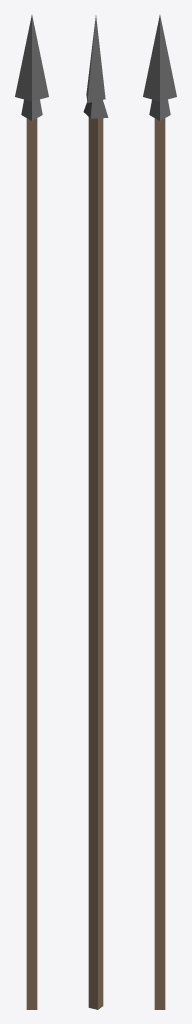
File: Spear_02.fbx
The picture shows the model from 3 angles, left to right: view 1: azimuth 90°, elevation 25°; view 2: azimuth 150°, elevation 25°; view 3: azimuth 270°, elevation 25°; orthographic projection.
Visible parts, largest first — view 1: pCylinder298; view 2: pCylinder298; view 3: pCylinder298.
Boxes of the visible parts, left/top/right/bottom form: pCylinder298: left=15, top=15, right=48, bottom=1009; pCylinder298: left=83, top=15, right=108, bottom=1009; pCylinder298: left=143, top=15, right=176, bottom=1009.
Size of the model in its own units: 0.089 by 3.38 by 0.1055.
